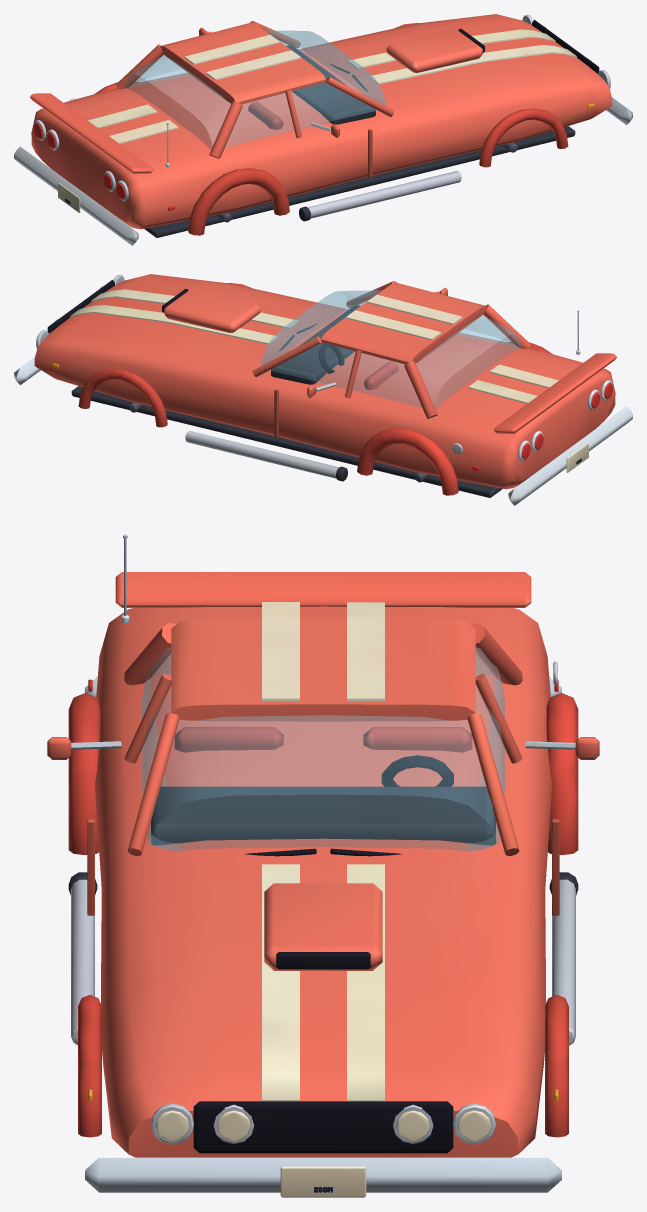
File: SM_Veh_MuscleCar_Body.fbx
The picture shows the model from 3 angles, top to bottom: view 1: azimuth 30°, elevation 25°; view 2: azimuth 150°, elevation 25°; view 3: azimuth 270°, elevation 25°; orthographic projection. The views are drawn at different scales.
Parts seen in each view (by area): view 1: SM_Veh_MuscleCar_Body; view 2: SM_Veh_MuscleCar_Body; view 3: SM_Veh_MuscleCar_Body.
Part boxes in pixels (x1,y1,x2,y2): SM_Veh_MuscleCar_Body: (14, 14, 632, 245); SM_Veh_MuscleCar_Body: (14, 274, 632, 505); SM_Veh_MuscleCar_Body: (47, 534, 599, 1197).
Size of the model in its own units: 502 by 116 by 234.
